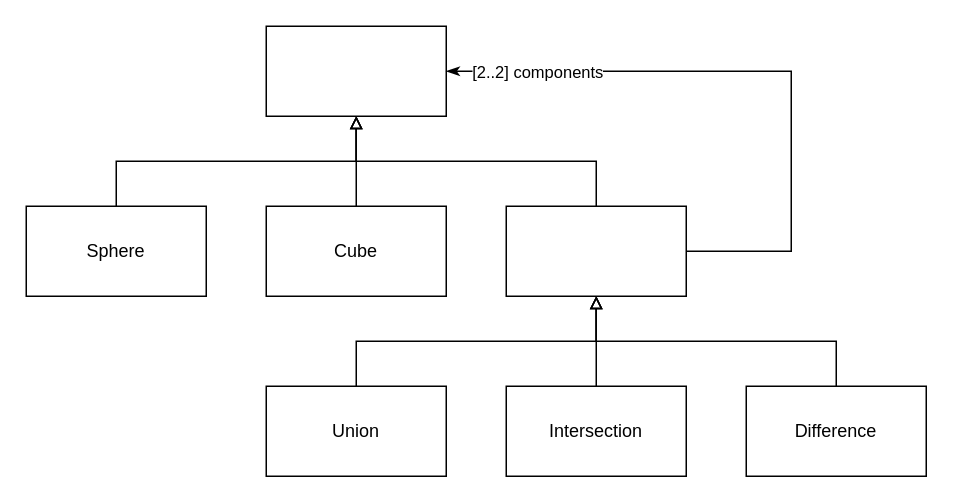
Image size: 953x503. Some labels were removed from this diagram. Each missing label, with the box of its shape:
Composite: (505, 205, 686, 296)
Shape: (265, 25, 446, 116)
